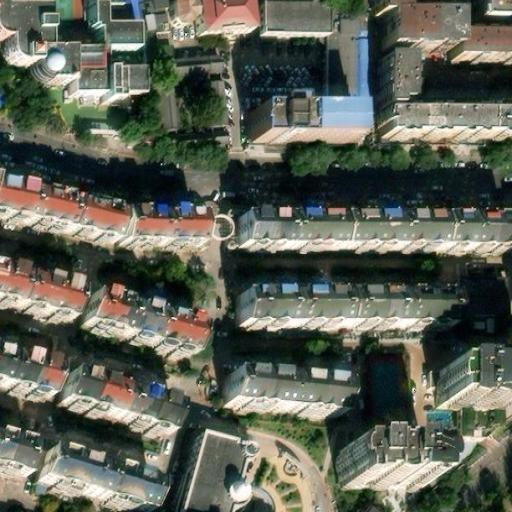building: (0, 0, 142, 124), (236, 214, 508, 250), (59, 372, 181, 440), (233, 292, 443, 331), (41, 448, 165, 512), (72, 296, 189, 362), (0, 189, 108, 248), (226, 362, 341, 413), (386, 114, 512, 153), (430, 367, 512, 417), (249, 100, 348, 141), (332, 452, 424, 496), (0, 274, 65, 325), (453, 280, 502, 340), (108, 215, 190, 250), (323, 9, 357, 93), (392, 21, 463, 57), (88, 18, 137, 66), (0, 359, 42, 404), (196, 0, 255, 32), (387, 56, 418, 115), (152, 54, 221, 78), (462, 36, 512, 67), (154, 77, 177, 127), (0, 444, 22, 484), (206, 75, 223, 122), (487, 0, 510, 26), (89, 0, 119, 19)
